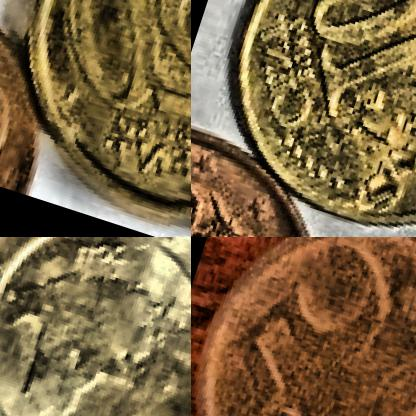coin: (195, 0, 415, 236), (0, 0, 190, 236), (191, 237, 415, 415), (0, 237, 190, 415)
